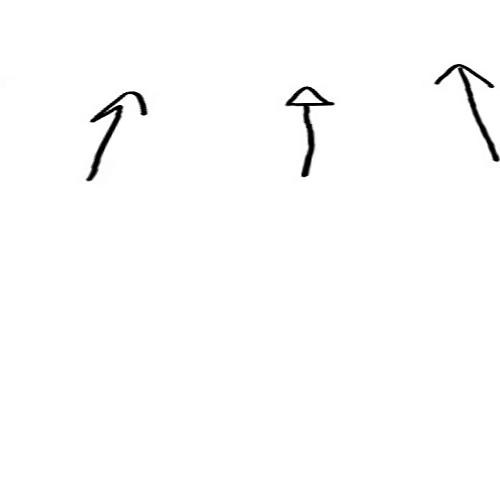arrow: (434, 63, 498, 165), (86, 90, 149, 182), (284, 83, 334, 180)
